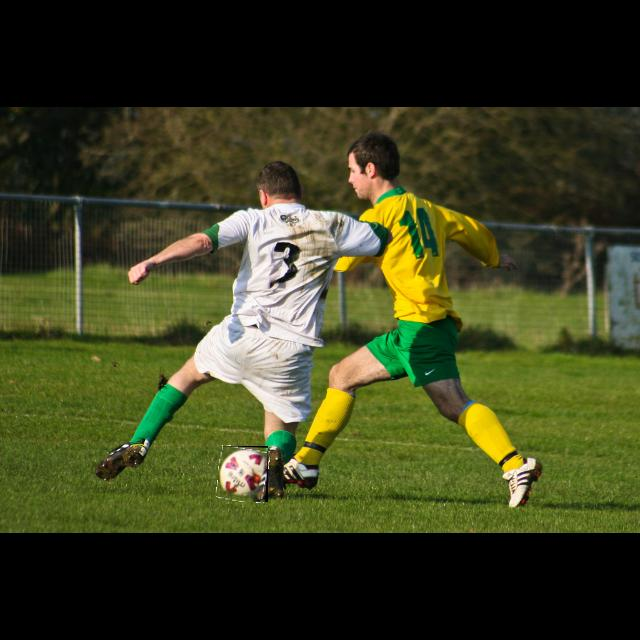Football: (218, 446, 268, 502)
